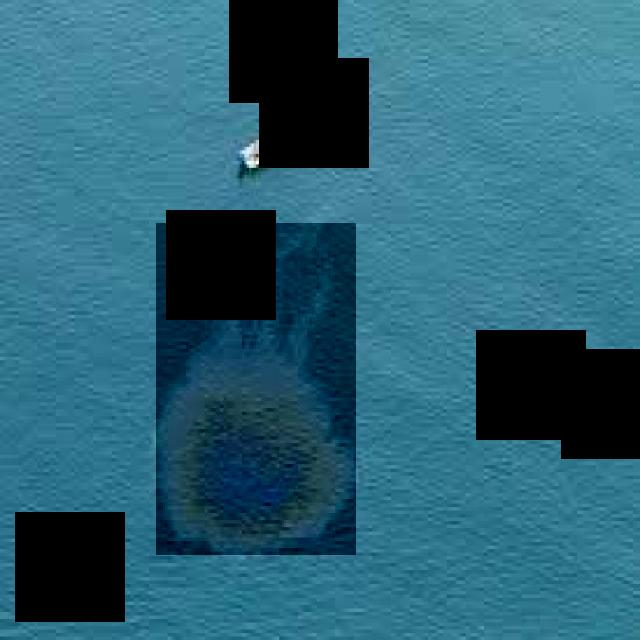oil spill: (156, 224, 356, 555)
